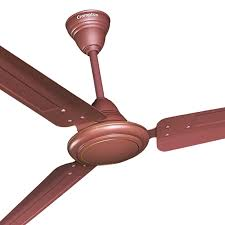CeilingFan: (7, 10, 224, 182)
